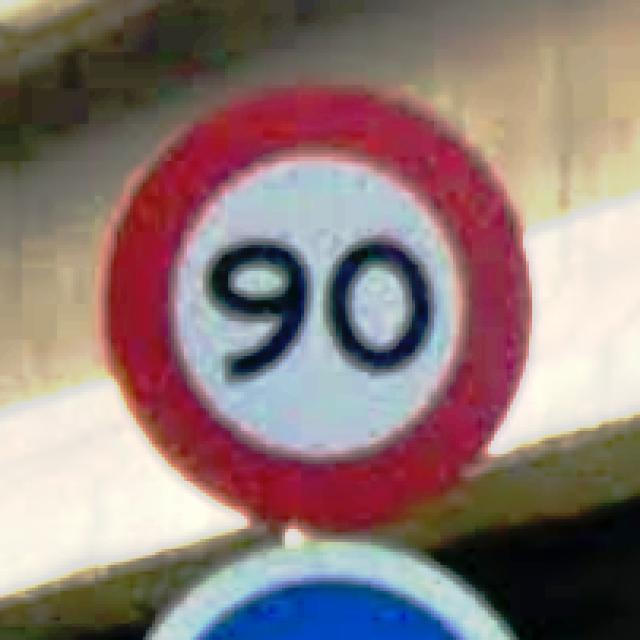max90: (98, 72, 539, 532)
